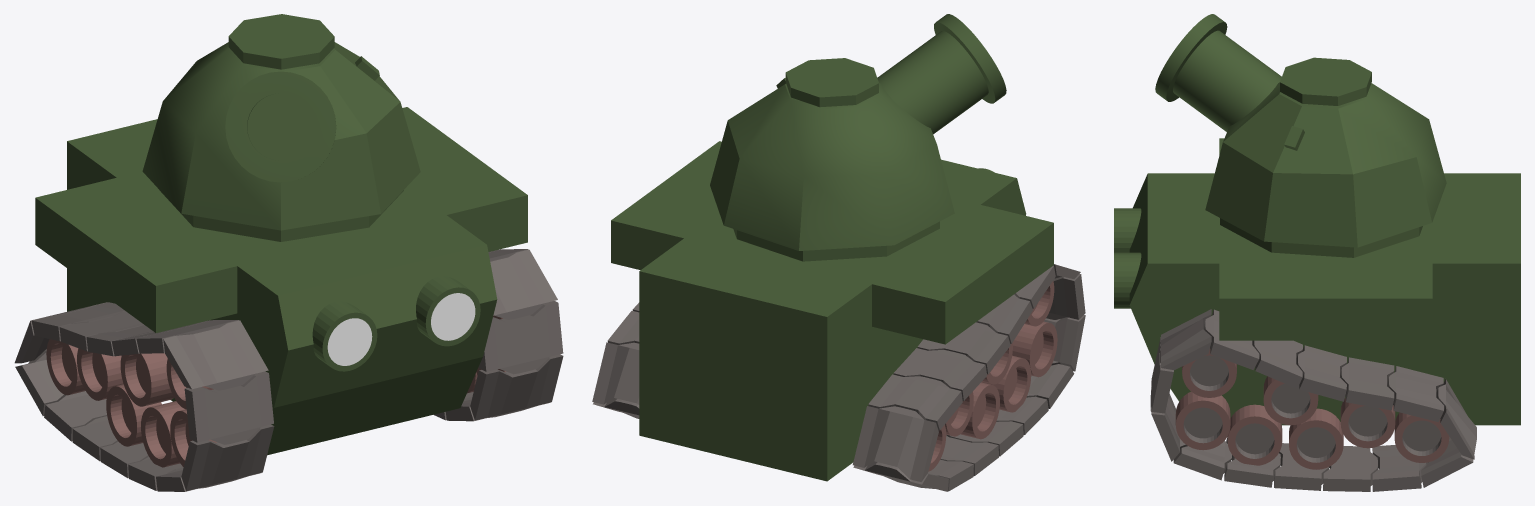
File: sasha-toy-tank-3.fbx
3 views of the same model, side by side, from view 1: azimuth 30°, elevation 25°; view 2: azimuth 150°, elevation 25°; view 3: azimuth 270°, elevation 25° (orthographic). The views are drawn at different scales.
Parts seen in each view (by area): view 1: Track 1, Cube.002; view 2: Track 1, Cube.002; view 3: Track 1, Cube.002.
Part boxes in pixels (x1,y1,x2,y2): Track 1: (14,107,563,491); Cube.002: (142,14,420,241); Track 1: (592,141,1085,491); Cube.002: (710,14,1006,261); Track 1: (1114,138,1520,491); Cube.002: (1155,14,1446,257).
Size of the model in its own units: 356 by 377 by 381.
